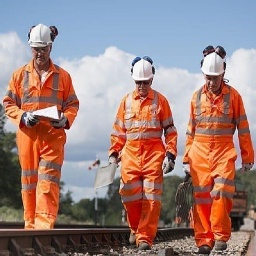helmet: (200, 52, 227, 83), (27, 23, 53, 54), (130, 60, 157, 88)
person: (6, 23, 76, 231), (188, 50, 254, 252), (110, 58, 178, 248)
vest: (16, 61, 64, 168), (191, 87, 241, 185), (122, 92, 166, 190)
